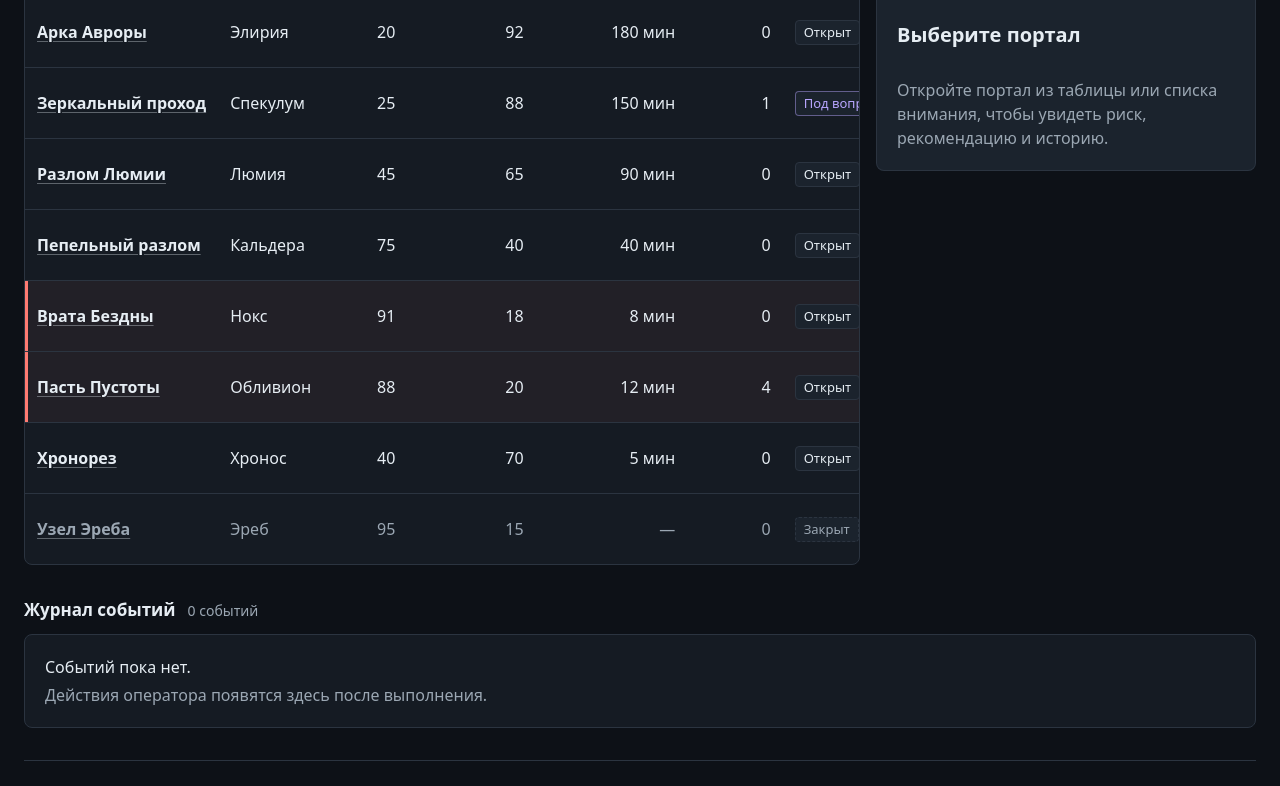
Test: Действия над порталами › закрытие портала с существами просит подтверждение, отмена не создаёт событий
(page scrolled)
What coordinates should you click on to do the following:
click the button "Пасть Пустоты"
I would click on:
 (98, 387)
Its box is [37, 375, 160, 399].
(page scrolled)
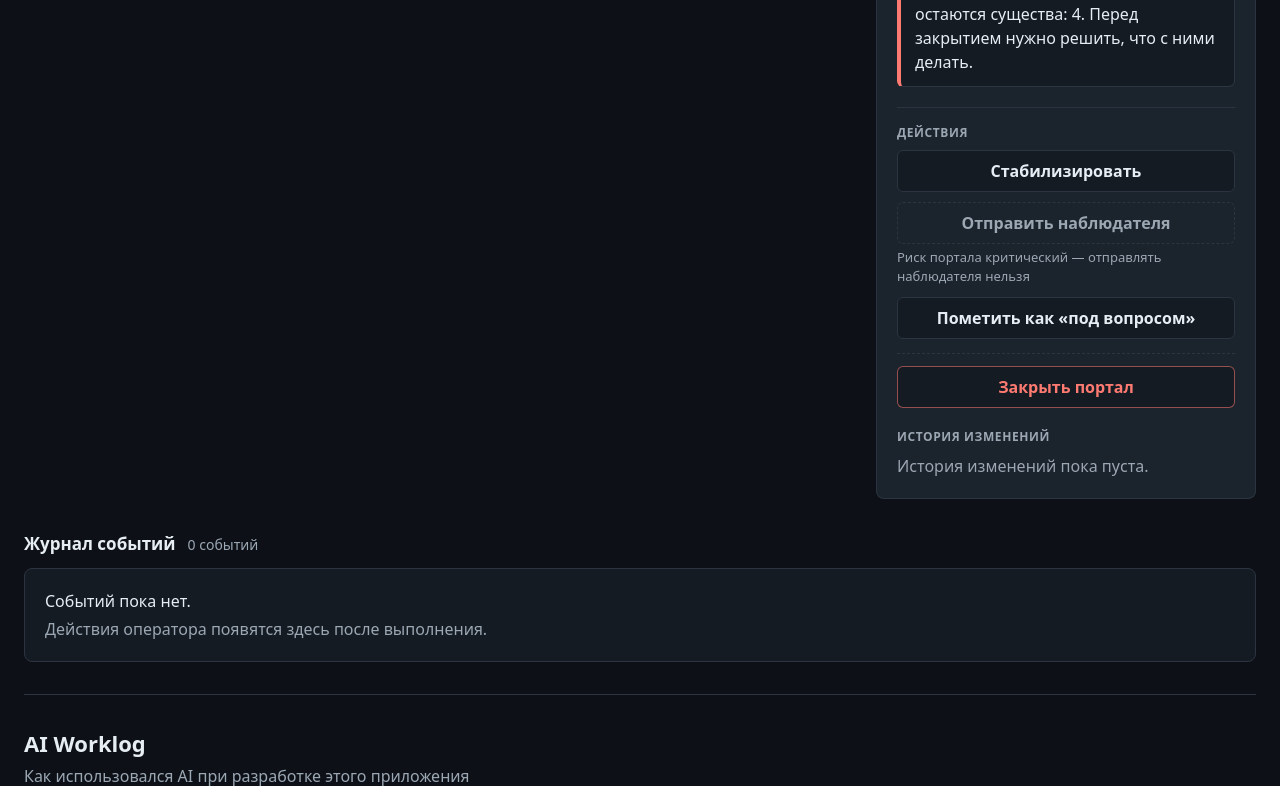
What coordinates should you click on to do the following:
click the button "Закрыть портал"
I would click on:
 (1066, 387)
Its box is [897, 366, 1235, 408].
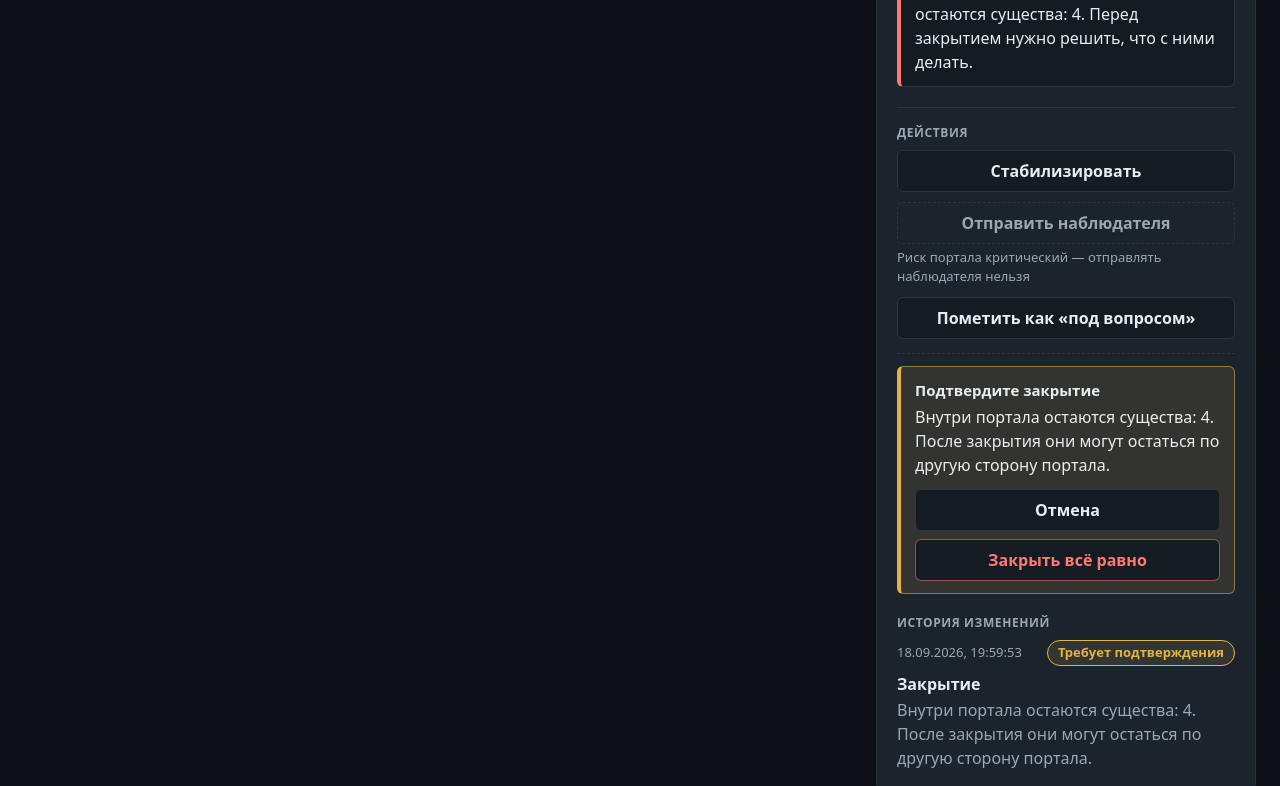
Check: the button "Закрыть портал" is gone
Check: the text "Закрытие" is shown, box [897, 673, 980, 695]
Check: the text "Требует подтверждения" is shown, box [1047, 640, 1235, 666]
What coordinates should you click on to do the following:
click the button "Отмена"
I would click on:
 (1068, 510)
Its box is [915, 489, 1220, 531].
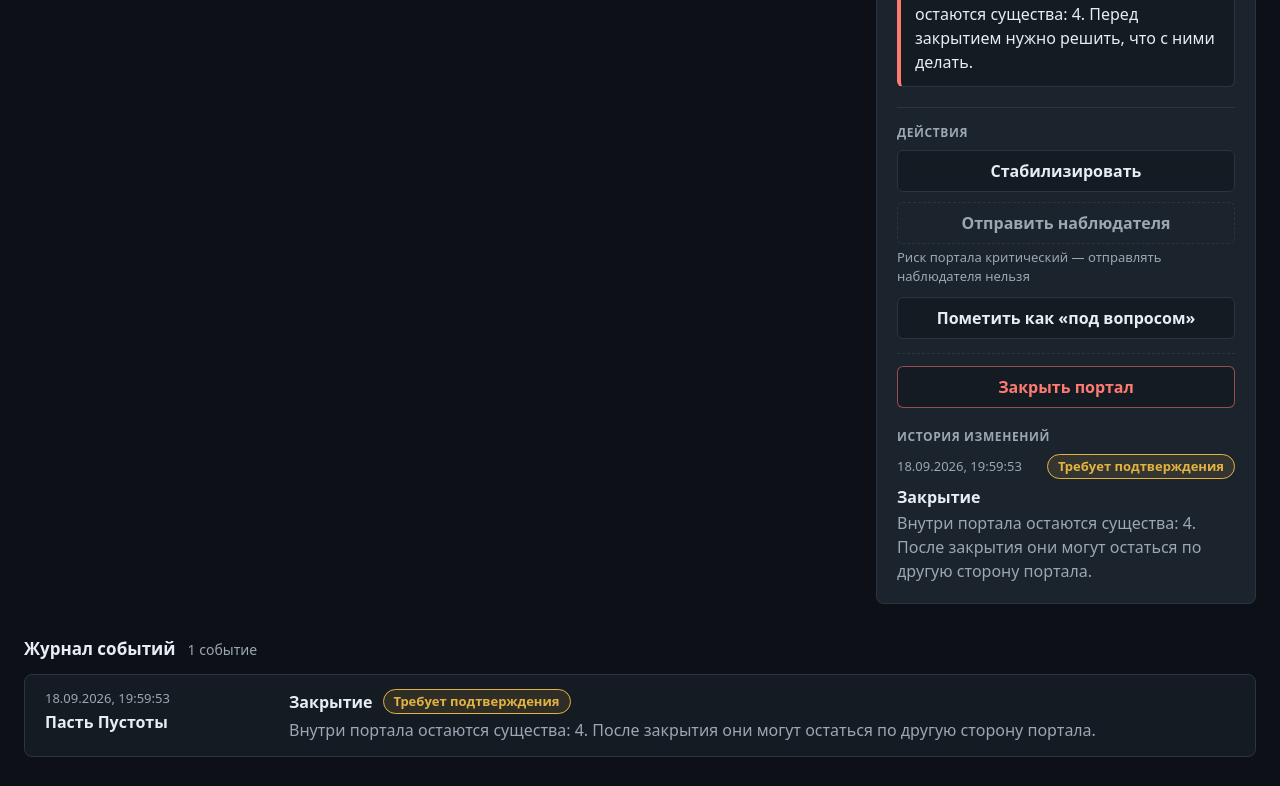
Check: the text "Закрытие" below "История изменений" is shown, box [897, 486, 980, 508]
Check: the text "Требует подтверждения" below "История изменений" is shown, box [1058, 457, 1224, 475]
Check: the button "Закрыть портал" is enabled, box [897, 366, 1235, 408]
